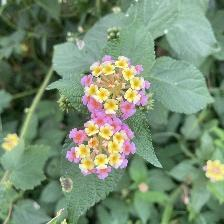common lanthana: (77, 52, 153, 123)
